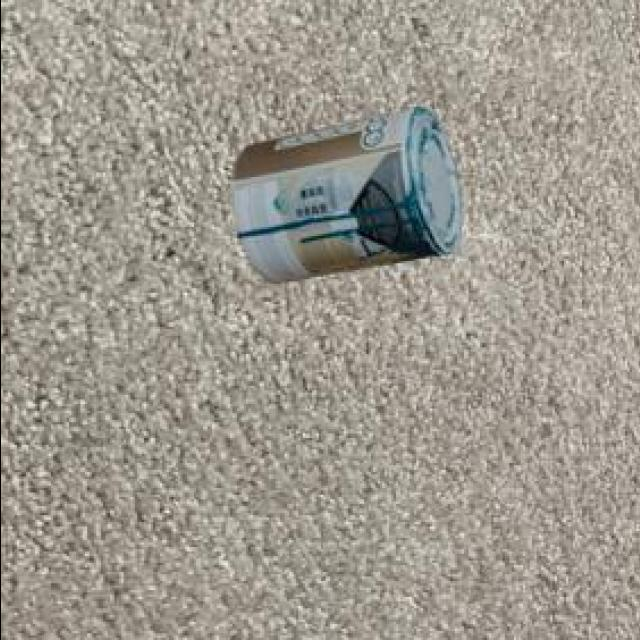logam: (235, 110, 464, 287)
